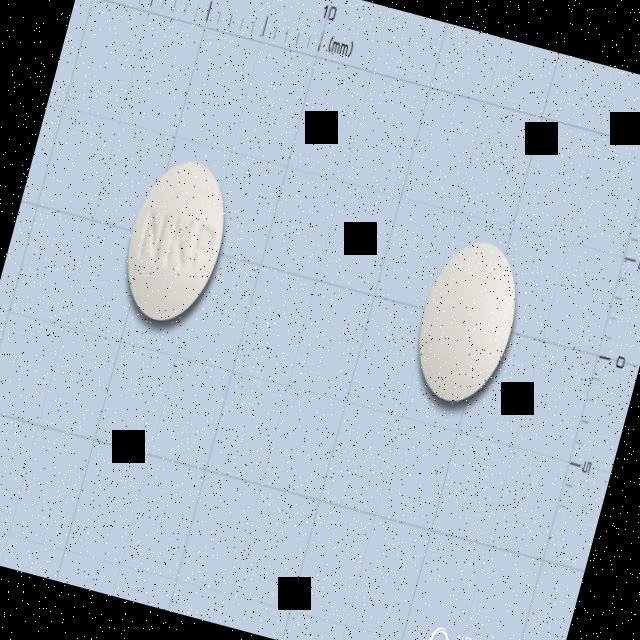Lefoxacin: (111, 150, 240, 332)
